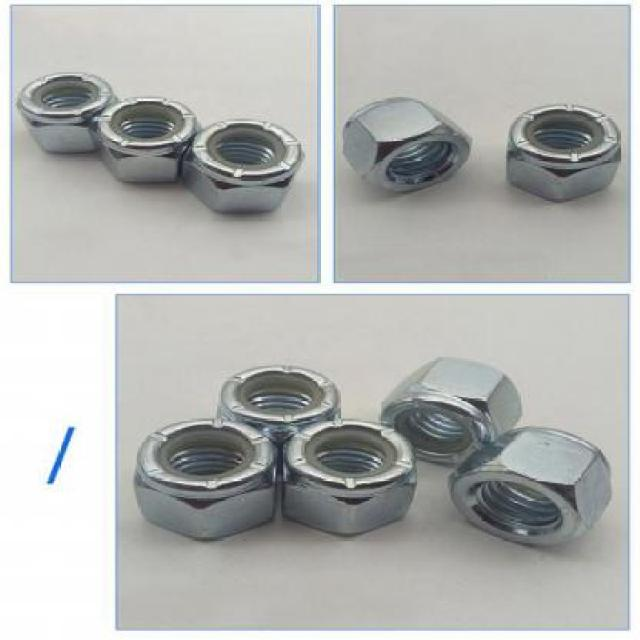Nut: (446, 426, 616, 548), (133, 416, 283, 543), (282, 416, 418, 538), (377, 354, 522, 468), (218, 362, 343, 469), (341, 94, 472, 194), (182, 117, 307, 215), (505, 101, 621, 203), (98, 94, 202, 188), (15, 68, 119, 153)
